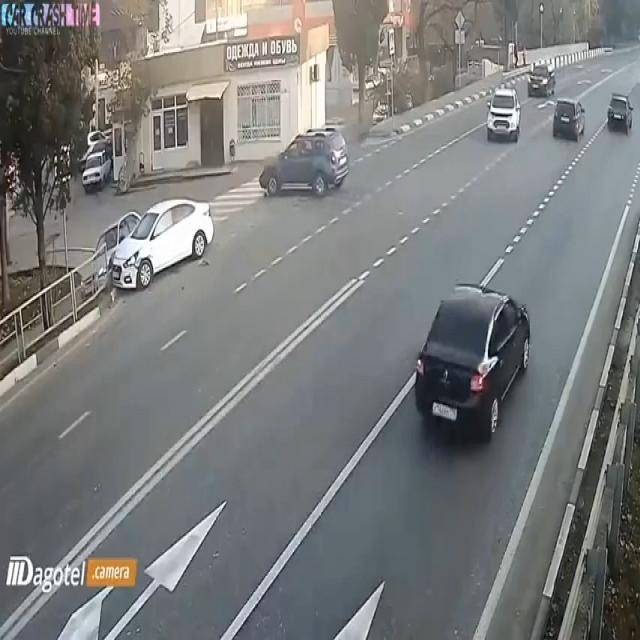Accident: (88, 210, 222, 294)
